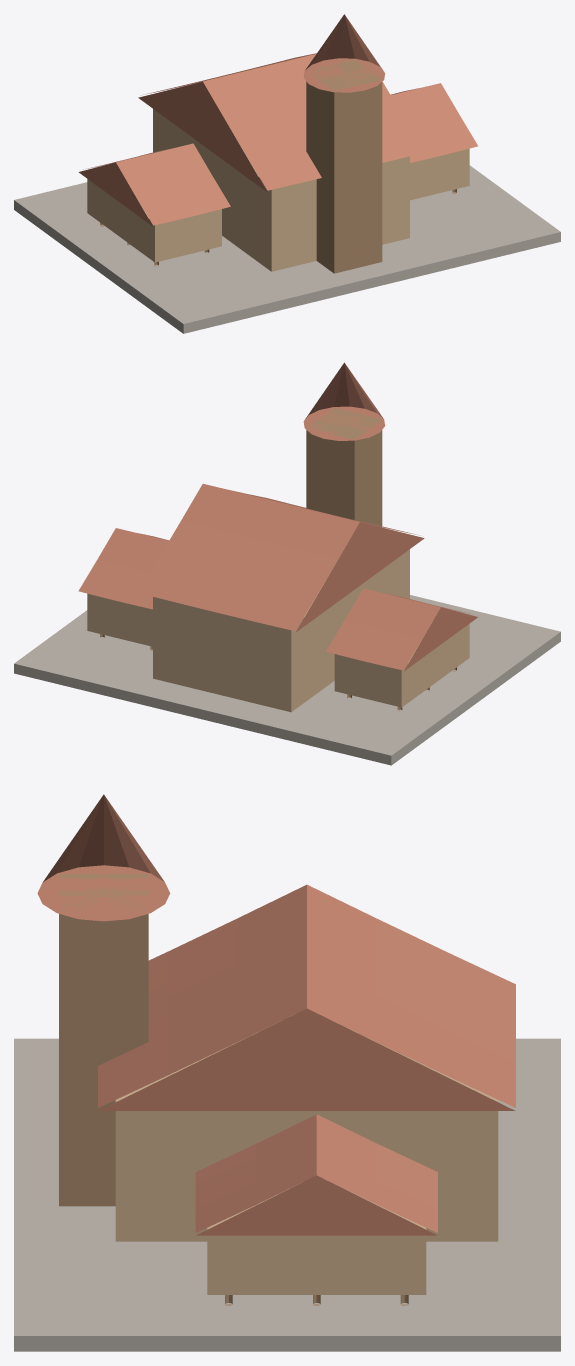
Rendered from lm_99_lang_k_ho_da_sar_va_nha_tho_go_da_nhim_lac_duong.glb.
3 views of the same model, one above another, from view 1: azimuth 30°, elevation 25°; view 2: azimuth 150°, elevation 25°; view 3: azimuth 270°, elevation 25° (orthographic). The views are drawn at different scales.
Visible parts, largest first — view 1: lm_99_lang_k_ho_da_sar_va_nha_tho_go_da_nhim_lac_duong; view 2: lm_99_lang_k_ho_da_sar_va_nha_tho_go_da_nhim_lac_duong; view 3: lm_99_lang_k_ho_da_sar_va_nha_tho_go_da_nhim_lac_duong.
Part boxes in pixels (bbox=[...]): lm_99_lang_k_ho_da_sar_va_nha_tho_go_da_nhim_lac_duong: bbox=[14, 14, 560, 333]; lm_99_lang_k_ho_da_sar_va_nha_tho_go_da_nhim_lac_duong: bbox=[14, 362, 560, 765]; lm_99_lang_k_ho_da_sar_va_nha_tho_go_da_nhim_lac_duong: bbox=[14, 794, 560, 1351].
Size of the model in its own units: 36 by 23.1 by 28.
